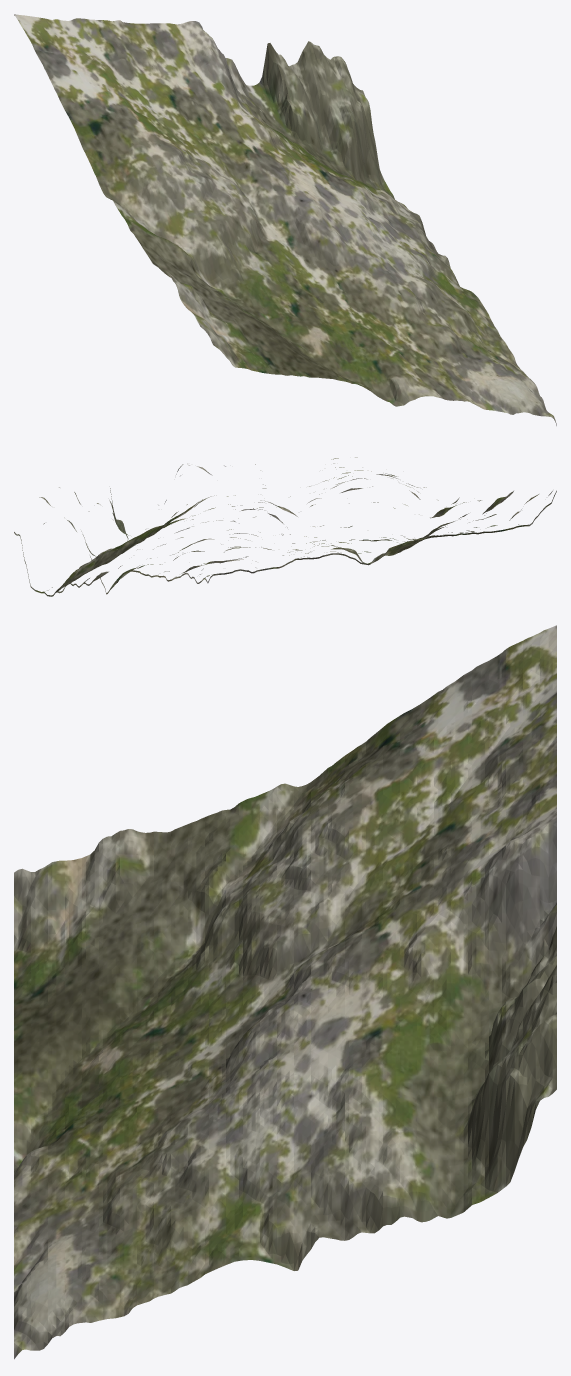
3 views of the same model, one above another, from view 1: azimuth 30°, elevation 25°; view 2: azimuth 150°, elevation 25°; view 3: azimuth 270°, elevation 25° (orthographic). The views are drawn at different scales.
Bounding box in the file's own units: 250 × 244 × 241.
1 material, 1 textured.
